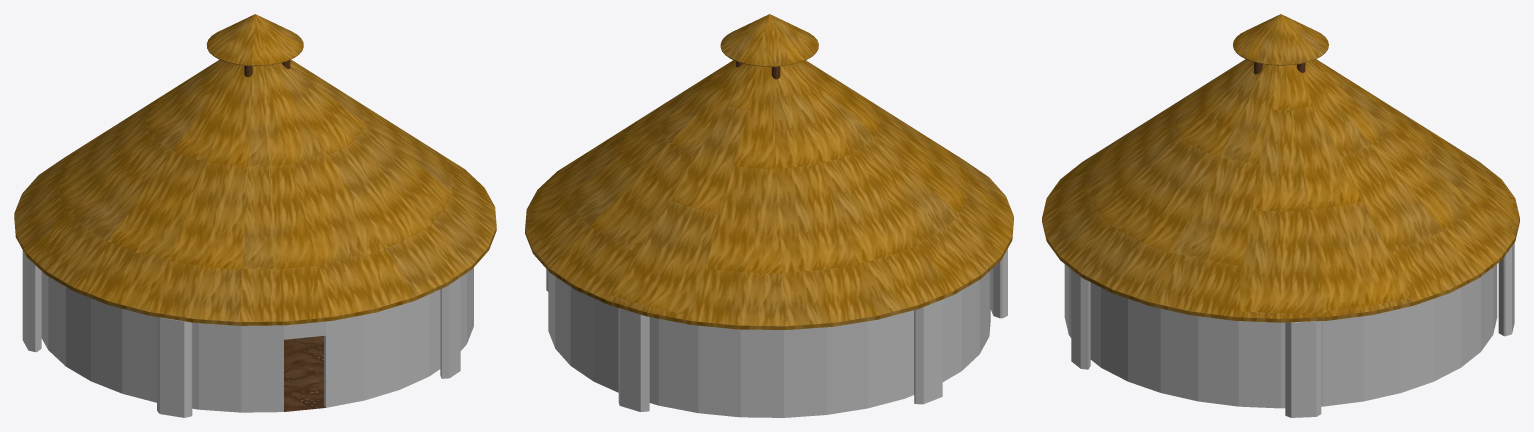
The model's file is TheYurt.fbx.
The picture shows the model from 3 angles, left to right: view 1: azimuth 30°, elevation 25°; view 2: azimuth 150°, elevation 25°; view 3: azimuth 270°, elevation 25°; orthographic projection. The views are drawn at different scales.
Visible parts, largest first — view 1: Cylinder, Cylinder.002, Cylinder.001; view 2: Cylinder, Cylinder.002, Cylinder.001; view 3: Cylinder, Cylinder.002, Cylinder.001.
Boxes of the visible parts, x1=… form: Cylinder: x1=14, y1=59, x2=496, y2=412; Cylinder.002: x1=22, y1=250, x2=460, y2=417; Cylinder.001: x1=206, y1=14, x2=303, y2=76; Cylinder: x1=525, y1=60, x2=1013, y2=417; Cylinder.002: x1=546, y1=249, x2=1007, y2=411; Cylinder.001: x1=720, y1=14, x2=818, y2=79; Cylinder: x1=1042, y1=59, x2=1519, y2=408; Cylinder.002: x1=1071, y1=243, x2=1514, y2=417; Cylinder.001: x1=1233, y1=14, x2=1328, y2=74.
Size of the model in its own units: 221 by 156 by 221.
